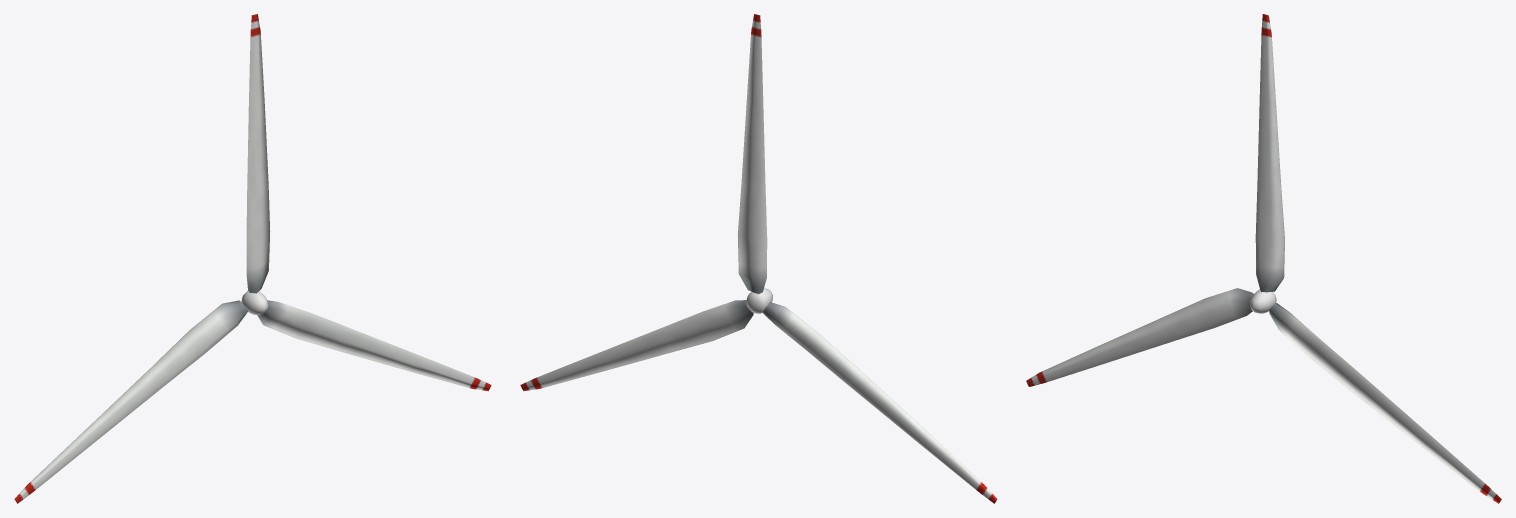
Rendered from wind_rotor.glb.
3 renders of one model, left to right at view 1: azimuth 30°, elevation 25°; view 2: azimuth 150°, elevation 25°; view 3: azimuth 330°, elevation 25°, orthographic.
Visible parts, largest first — view 1: Rotor; view 2: Rotor; view 3: Rotor.
Part boxes in pixels (bbox=[...]): Rotor: bbox=[14, 14, 491, 503]; Rotor: bbox=[520, 14, 997, 503]; Rotor: bbox=[1026, 14, 1501, 503].
Bounding box in the file's own units: 70.6 × 61.3 × 4.1.
2 materials, 1 textured.
